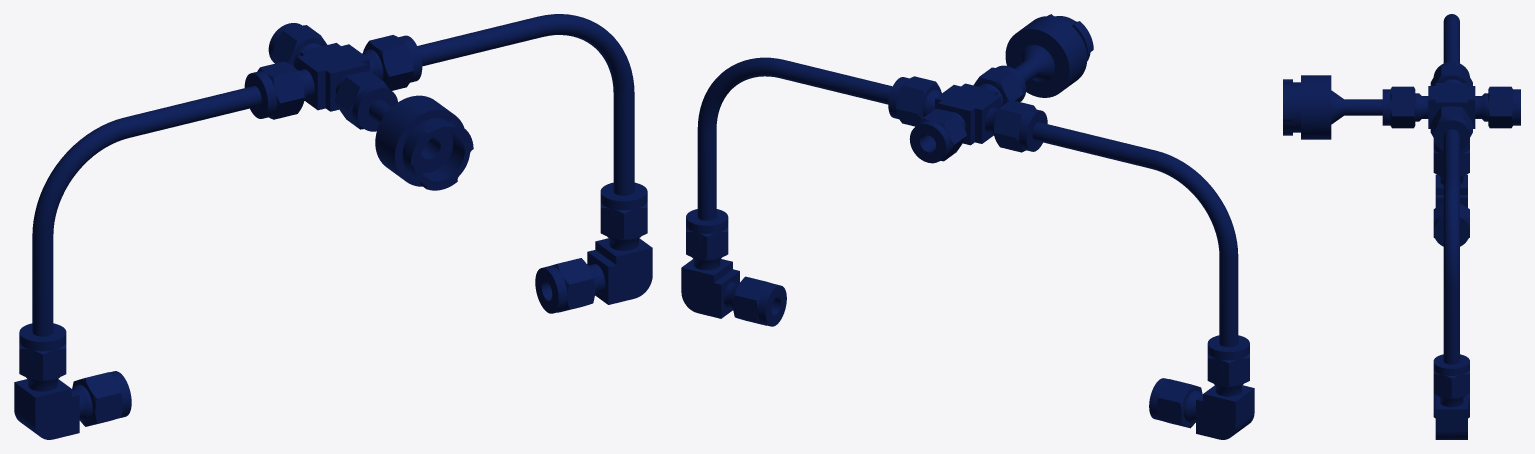
3 views of the same model, side by side, from view 1: azimuth 30°, elevation 25°; view 2: azimuth 150°, elevation 25°; view 3: azimuth 270°, elevation 25° (orthographic). The views are drawn at different scales.
Parts seen in each view (by area): view 1: Object_2; view 2: Object_2; view 3: Object_2.
Boxes of the visible parts, left/top/right/bottom form: Object_2: left=14, top=14, right=652, bottom=439; Object_2: left=681, top=14, right=1254, bottom=439; Object_2: left=1283, top=14, right=1520, bottom=439.
Size of the model in its own units: 219 by 109 by 92.69.
